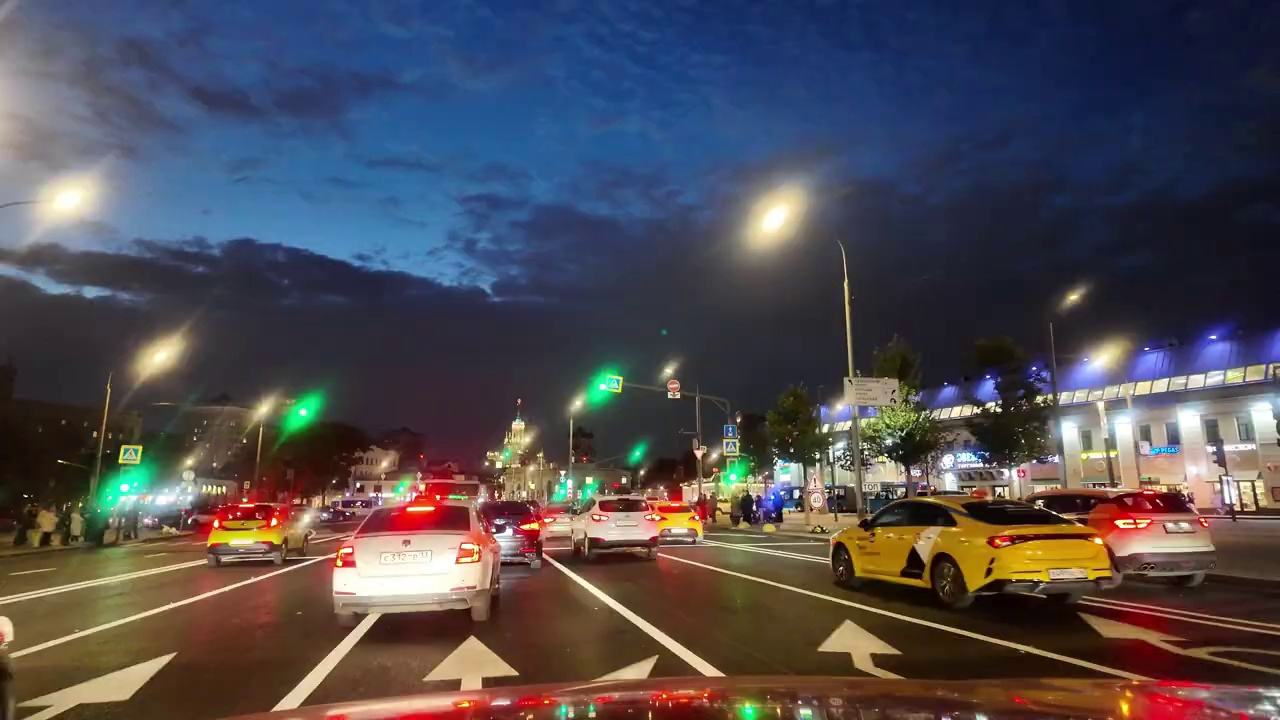acesa: (131, 329, 186, 383), (750, 191, 802, 247), (37, 181, 92, 223), (1056, 279, 1091, 315)
